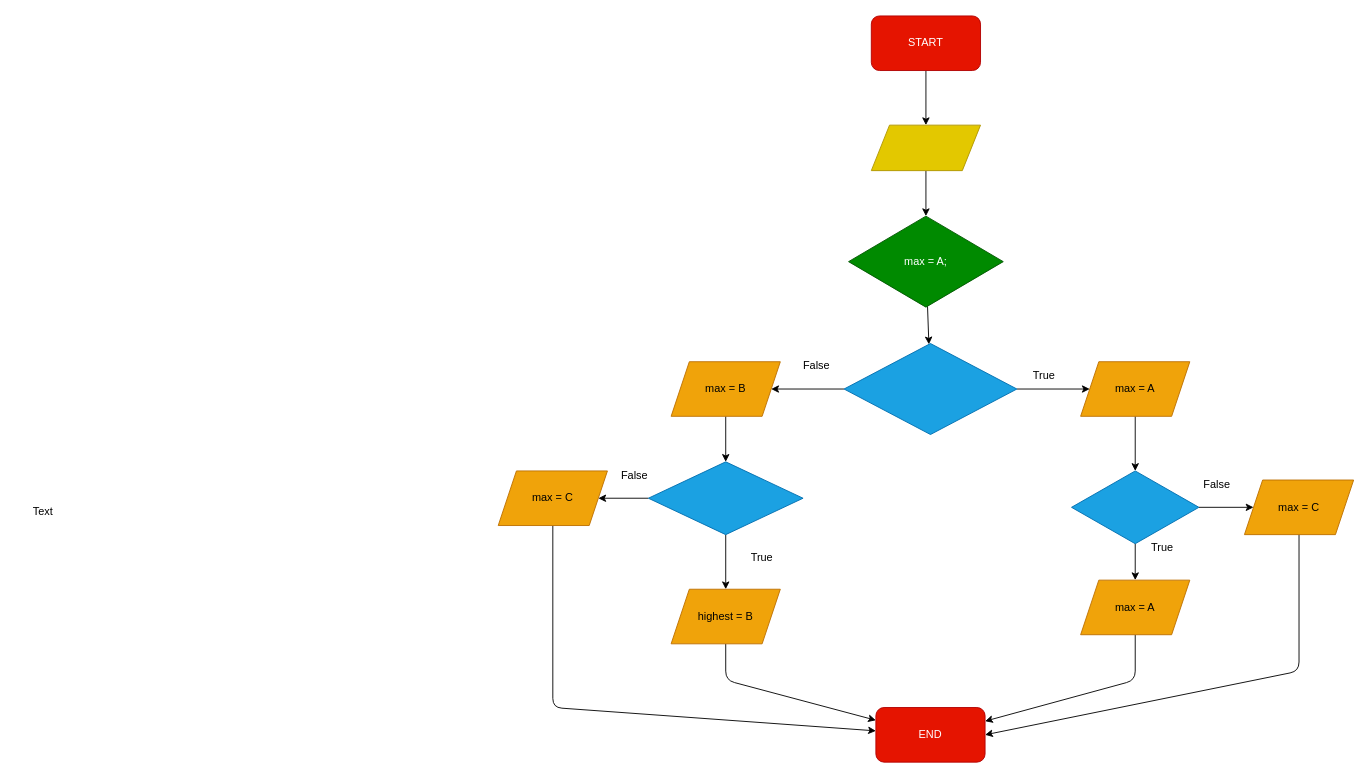
Image size: 1370x778. Some labels were removed from this diagram. Here are the shapes that lost their labels. From the top down, the box of each, then its label:
(870, 124, 981, 171): INPUT A,B,C
(843, 343, 1017, 435): A > B
(647, 461, 803, 535): max (B) > C
(1071, 470, 1199, 544): max (A) > C
